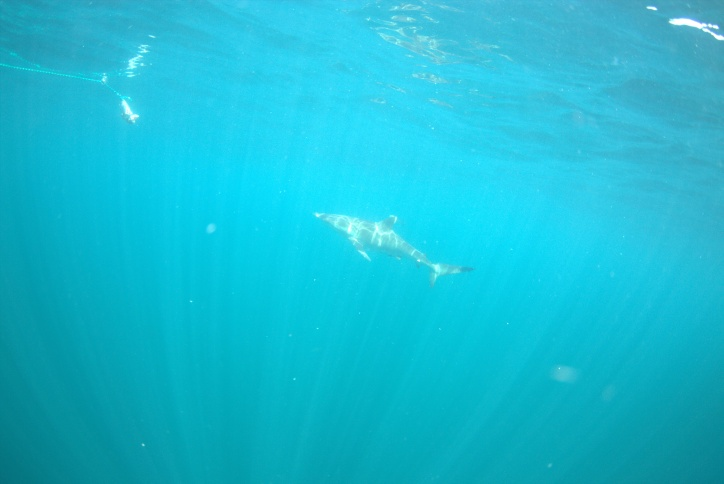Sedoso: (290, 201, 496, 305)
